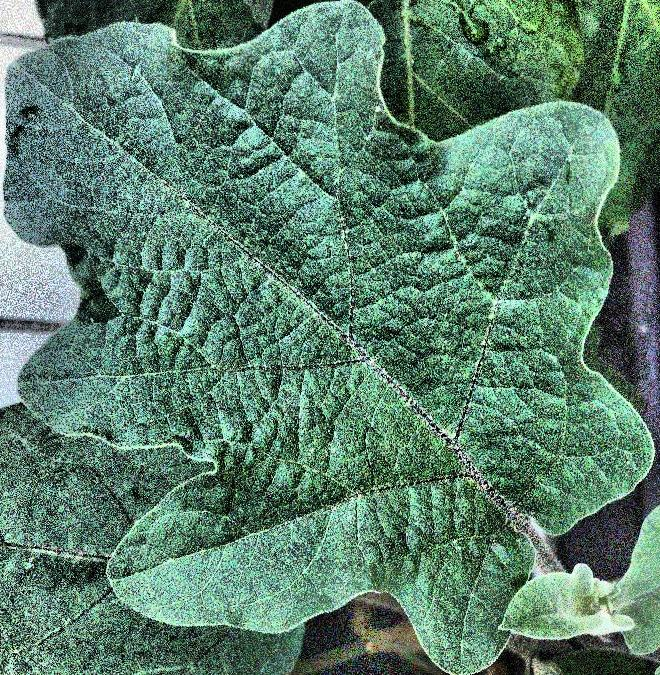HEALTHY: (1, 0, 660, 675)
